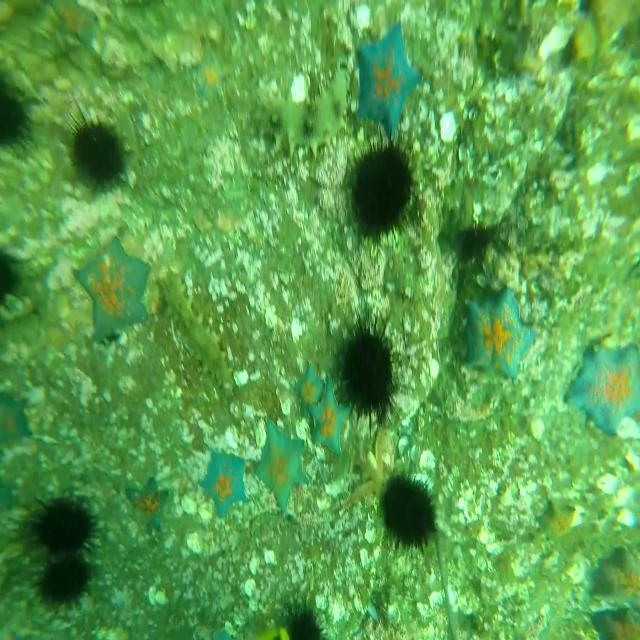echinus: (338, 292, 401, 445), (348, 132, 420, 251), (63, 91, 131, 199), (12, 491, 102, 564), (378, 468, 438, 556), (31, 549, 99, 613), (0, 59, 38, 158), (282, 592, 329, 640), (0, 238, 20, 309)
holothurian: (252, 66, 356, 160), (160, 270, 233, 388)
starfish: (564, 325, 640, 442), (71, 236, 152, 344), (354, 20, 421, 135), (459, 286, 536, 384), (254, 412, 312, 515), (307, 372, 353, 462), (200, 445, 250, 523), (588, 540, 640, 610), (126, 473, 171, 538), (0, 388, 33, 451), (591, 600, 640, 640), (194, 48, 229, 103), (296, 359, 326, 416), (537, 499, 575, 543)
